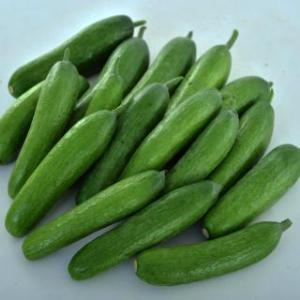cucumber: (4, 105, 122, 239), (68, 179, 222, 281), (22, 168, 167, 260), (76, 84, 168, 206), (6, 48, 78, 200), (7, 14, 136, 96), (134, 220, 292, 286), (117, 86, 222, 182), (202, 142, 300, 238), (208, 102, 274, 194)
